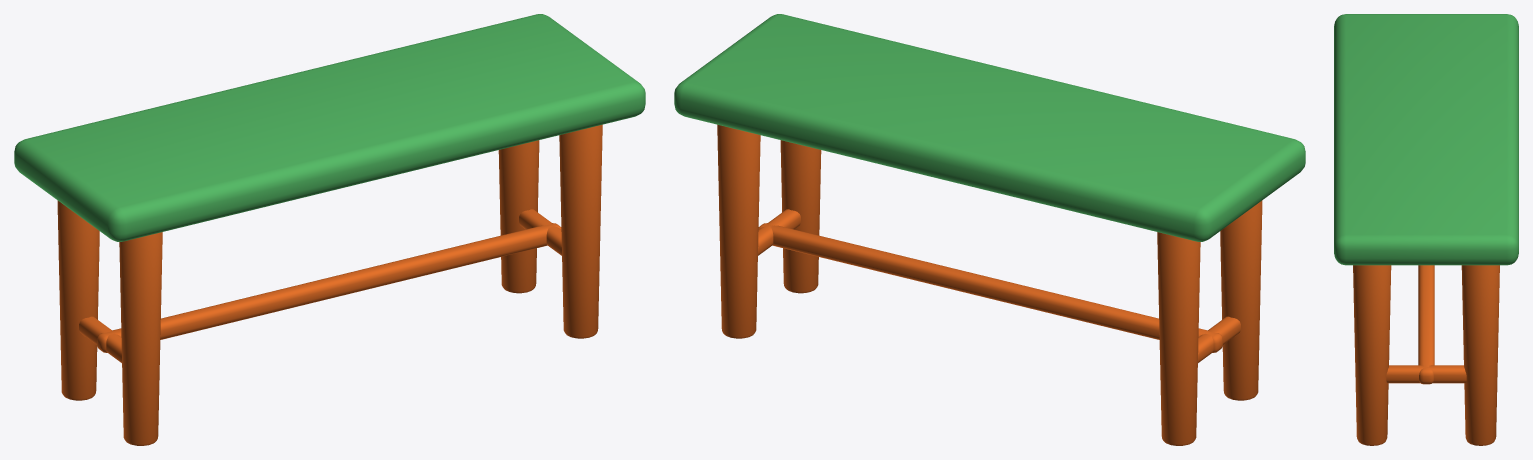
File: banco_entrada_verde.glb
3 renders of one model, left to right at view 1: azimuth 30°, elevation 25°; view 2: azimuth 150°, elevation 25°; view 3: azimuth 270°, elevation 25°, orthographic. The views are drawn at different scales.
Parts seen in each view (by area): view 1: banco_entrada_verde; view 2: banco_entrada_verde; view 3: banco_entrada_verde.
Part boxes in pixels (bbox=[...]): banco_entrada_verde: bbox=[14, 14, 645, 445]; banco_entrada_verde: bbox=[674, 14, 1305, 445]; banco_entrada_verde: bbox=[1334, 14, 1518, 445].
Size of the model in its own units: 1 by 0.45 by 0.34.
1 material, 1 textured.
